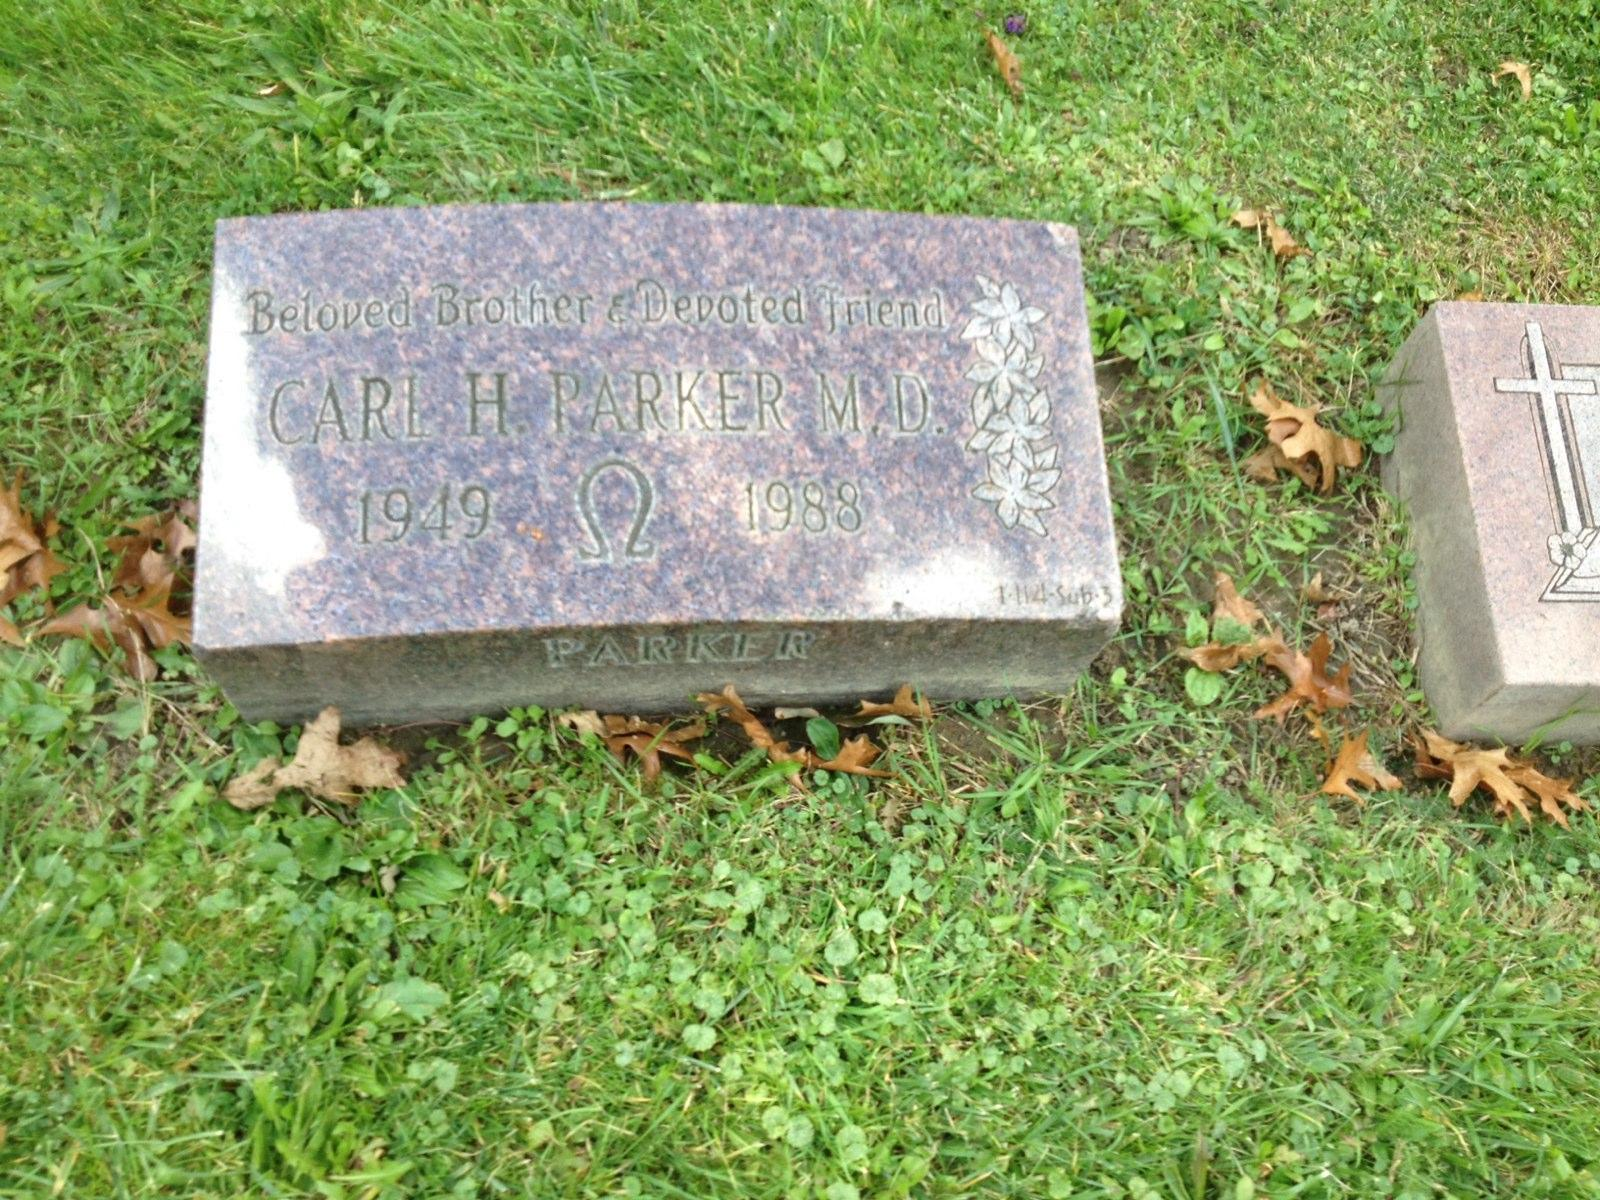flat: (199, 203, 1119, 700)
